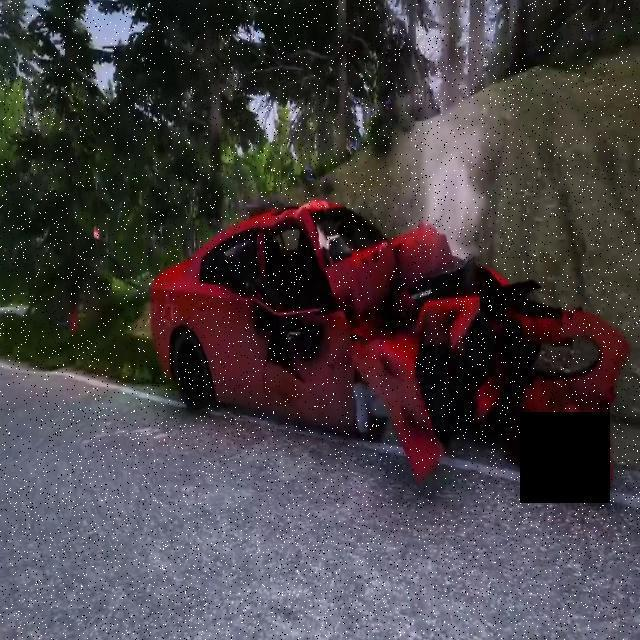vehicle: (117, 168, 614, 508)
